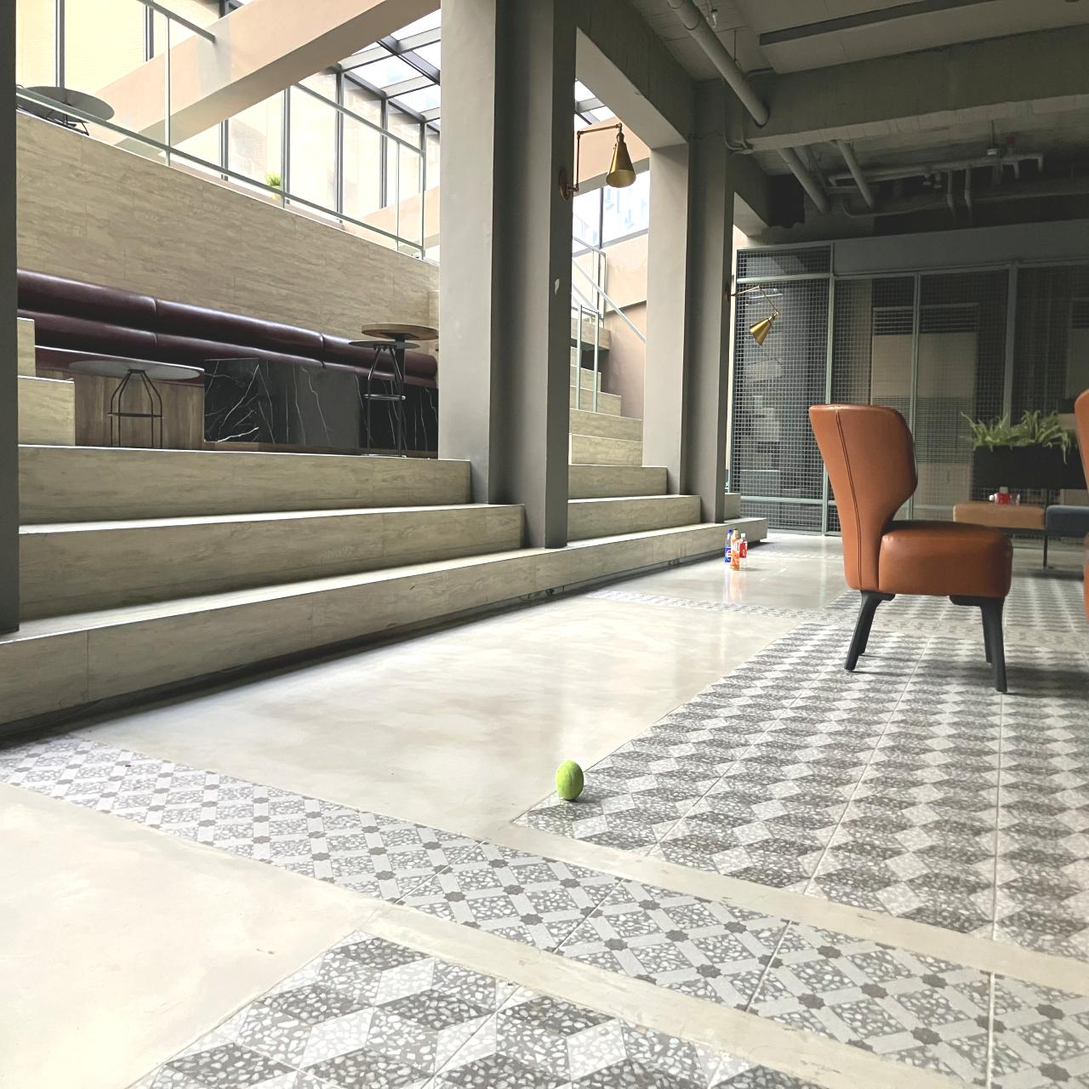plastic-bottle: (731, 529, 740, 570), (738, 533, 747, 569), (732, 528, 739, 564), (725, 532, 732, 565)
tennisball: (556, 761, 584, 801)
